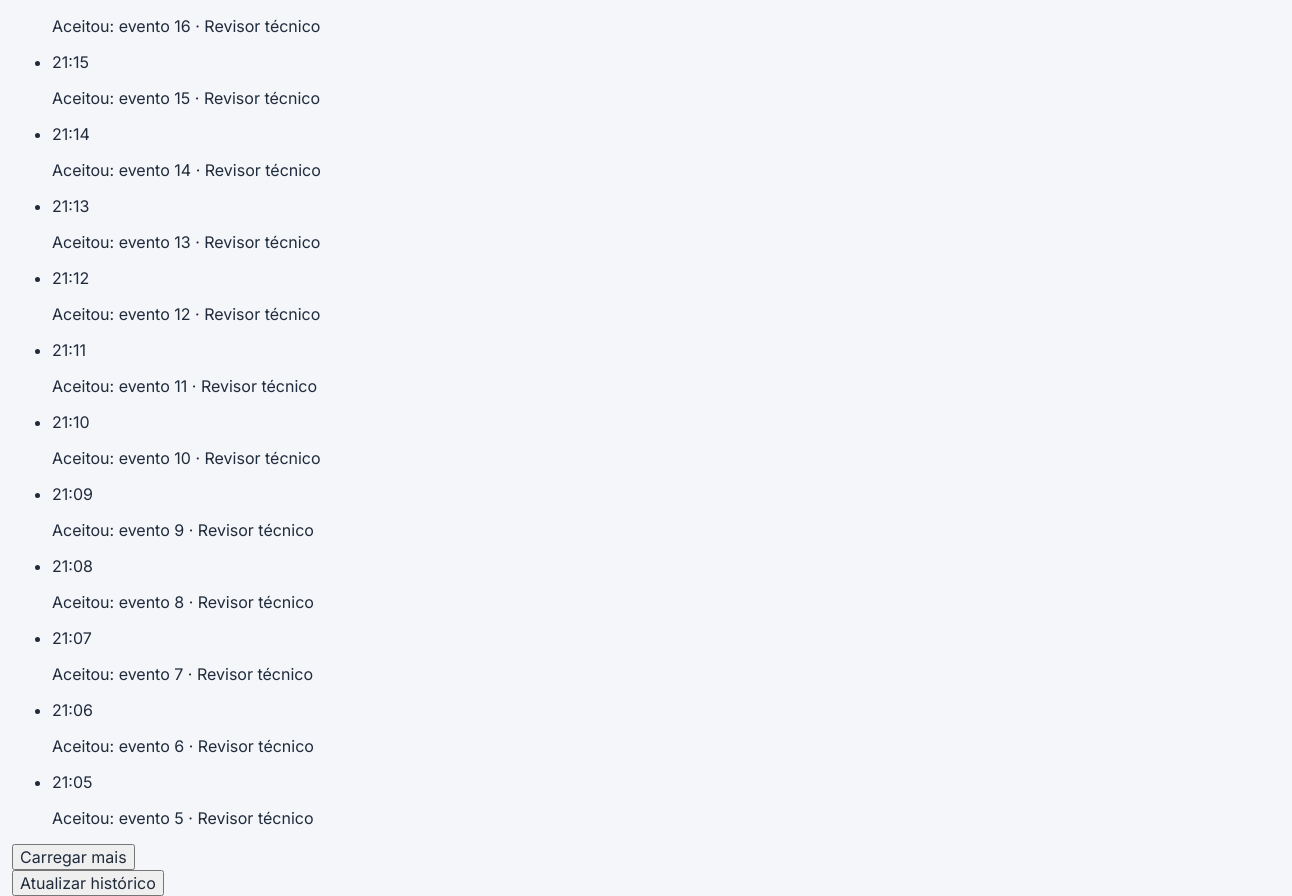
Test: loads 25 more and focuses the first new event
(page scrolled)
Click the button "Carregar mais": (73, 857) [12,844,135,870]
(page scrolled)
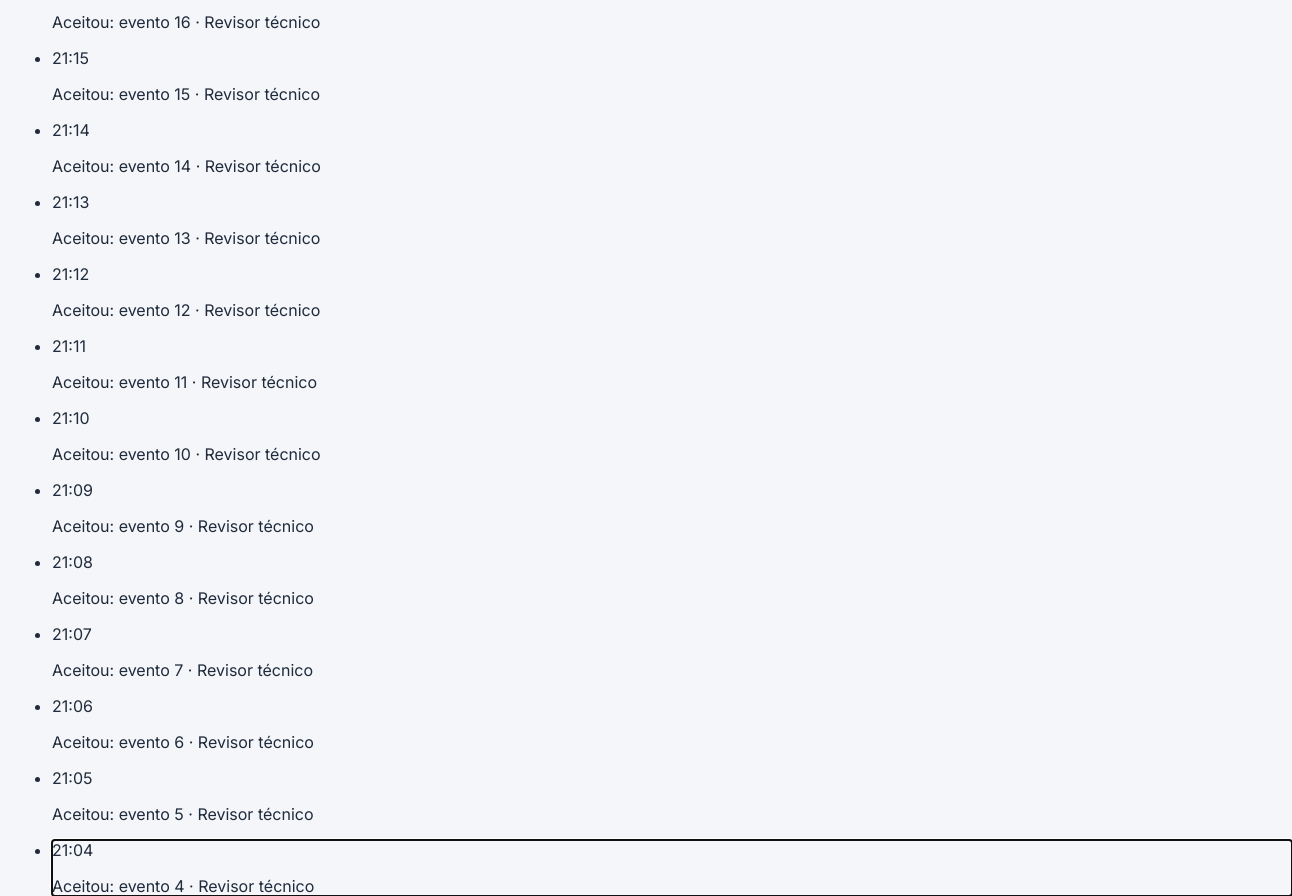
Now the button "Carregar mais" is gone
